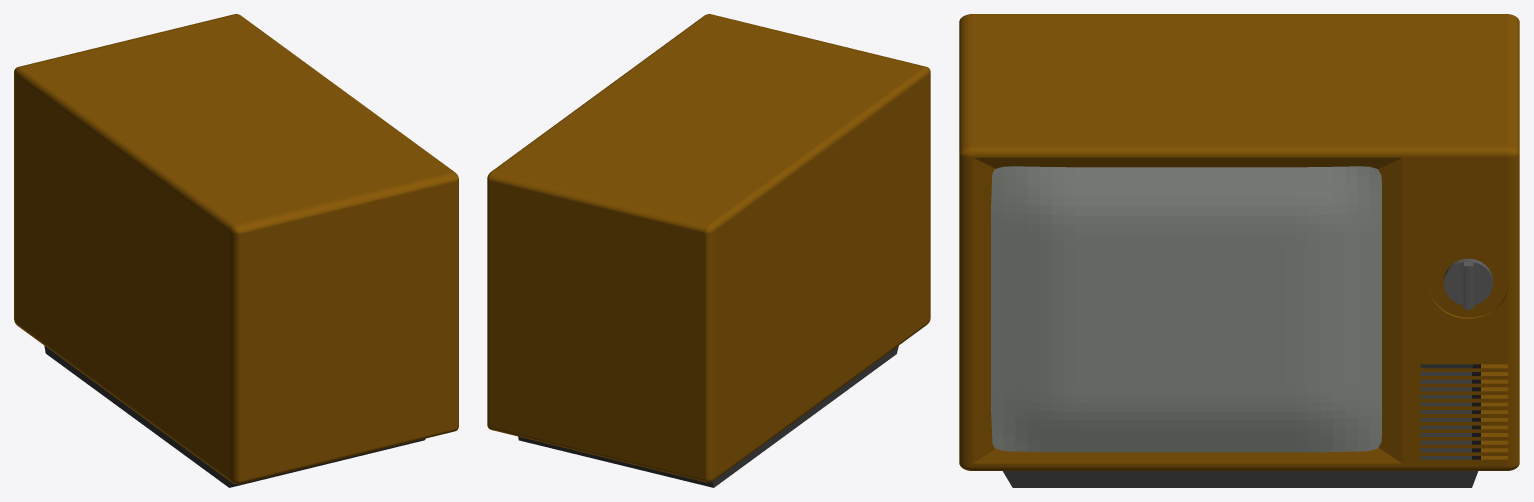
3 views of the same model, side by side, from view 1: azimuth 30°, elevation 25°; view 2: azimuth 150°, elevation 25°; view 3: azimuth 270°, elevation 25° (orthographic). The views are drawn at different scales.
Parts seen in each view (by area): view 1: Cube, Cube.002; view 2: Cube, Cube.002; view 3: Cube, Cube.001, Cube.002, Cylinder.
Boxes of the visible parts, left/top/right/bottom form: Cube: left=14, top=14, right=458, bottom=484; Cube.002: left=44, top=346, right=425, bottom=487; Cube: left=487, top=14, right=930, bottom=482; Cube.002: left=518, top=345, right=898, bottom=487; Cube: left=959, top=14, right=1519, bottom=470; Cube.001: left=991, top=166, right=1381, bottom=452; Cube.002: left=1003, top=364, right=1480, bottom=487; Cylinder: left=1444, top=258, right=1492, bottom=309.
Bounding box in the file's own units: 422 × 475 × 693.
